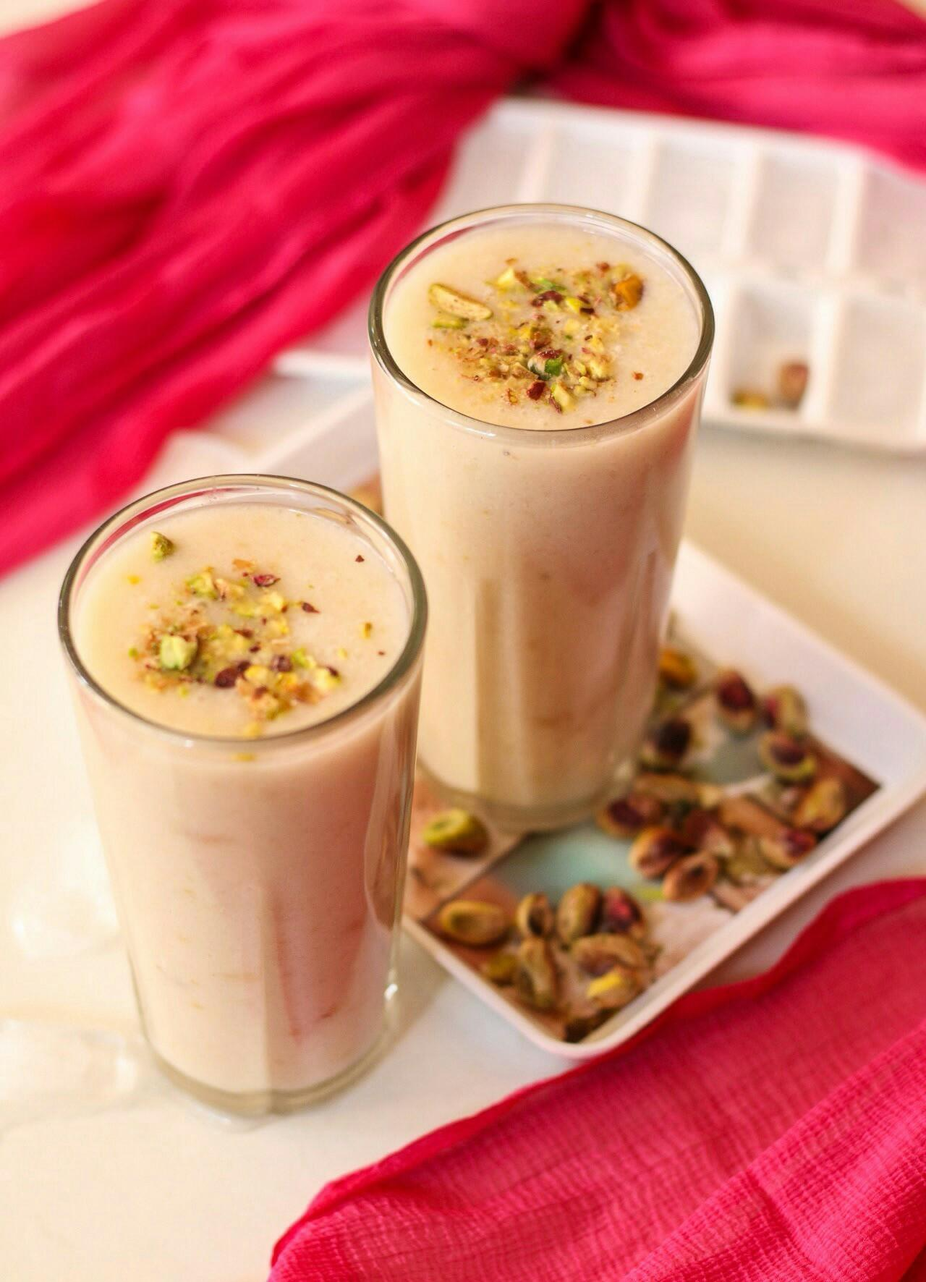Lassi: (71, 502, 417, 1098), (379, 221, 699, 799)
